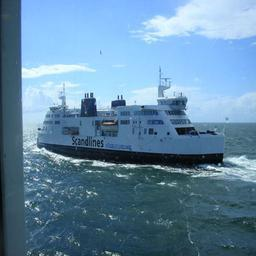Ship: (38, 80, 229, 171)
